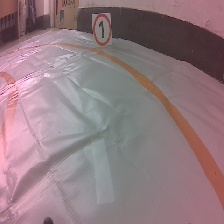limit: (91, 11, 114, 48)
